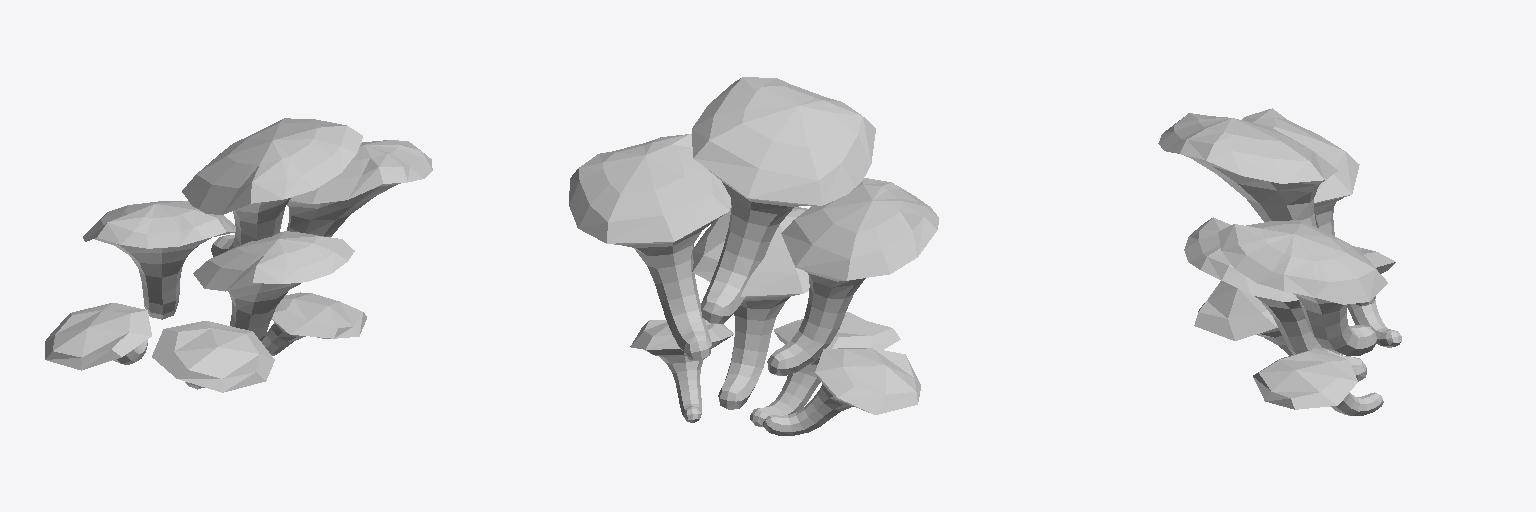
The model's file is Mushroom_Oyster.obj.
The picture shows the model from 3 angles: view 1: azimuth 30°, elevation 25°; view 2: azimuth 150°, elevation 25°; view 3: azimuth 270°, elevation 25°; orthographic projection.
Parts seen in each view (by area): view 1: Mushroom_Oyster; view 2: Mushroom_Oyster; view 3: Mushroom_Oyster.
Part boxes in pixels (x1,y1,x2,y2): Mushroom_Oyster: (45,118,432,392); Mushroom_Oyster: (569,77,938,435); Mushroom_Oyster: (1158,108,1401,415).
Bounding box in the file's own units: 2.39 × 1.78 × 1.4.